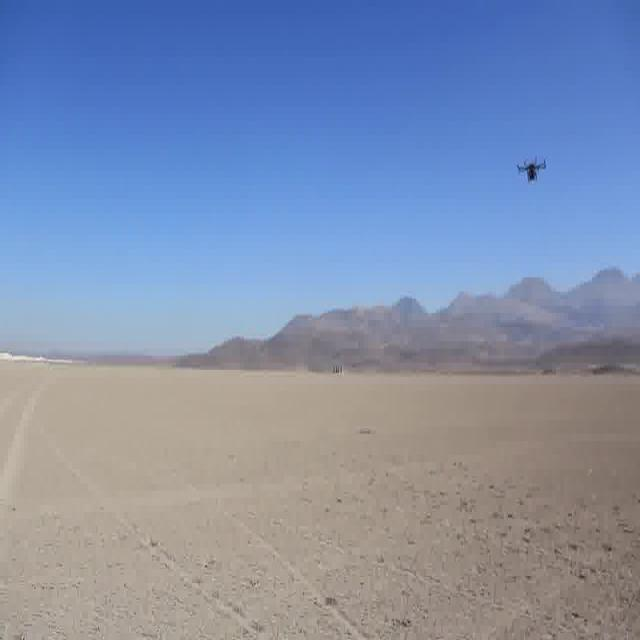drone: (510, 144, 554, 190)
